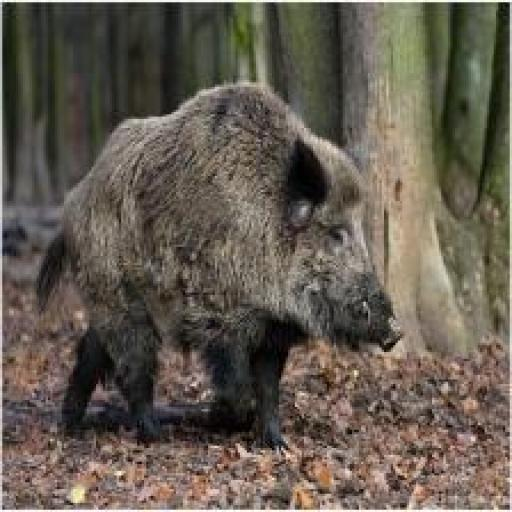Pig: (36, 80, 404, 448)
